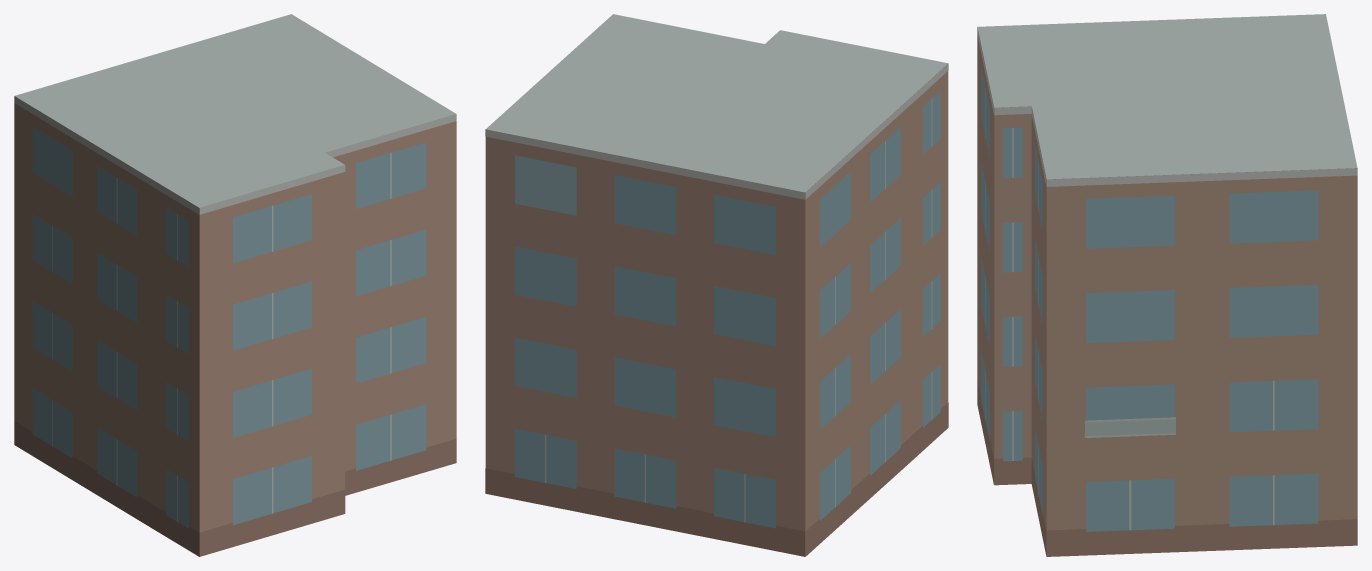
Rendered from residential-c77cfa88-0463-4dea-bfb7-19fb9dfcc8eb.glb.
The picture shows the model from 3 angles, left to right: view 1: azimuth 30°, elevation 25°; view 2: azimuth 150°, elevation 25°; view 3: azimuth 270°, elevation 25°; orthographic projection. The views are drawn at different scales.
Parts seen in each view (by area): view 1: residential-c77cfa88-0463-4dea-bfb7-19fb9dfcc8eb.tmp; view 2: residential-c77cfa88-0463-4dea-bfb7-19fb9dfcc8eb.tmp; view 3: residential-c77cfa88-0463-4dea-bfb7-19fb9dfcc8eb.tmp.
Boxes of the visible parts, <box> form: residential-c77cfa88-0463-4dea-bfb7-19fb9dfcc8eb.tmp: <box>14,14,456,556</box>; residential-c77cfa88-0463-4dea-bfb7-19fb9dfcc8eb.tmp: <box>485,14,948,556</box>; residential-c77cfa88-0463-4dea-bfb7-19fb9dfcc8eb.tmp: <box>977,14,1357,556</box>.
Bounding box in the file's own units: 11.47 × 12.2 × 11.14.
